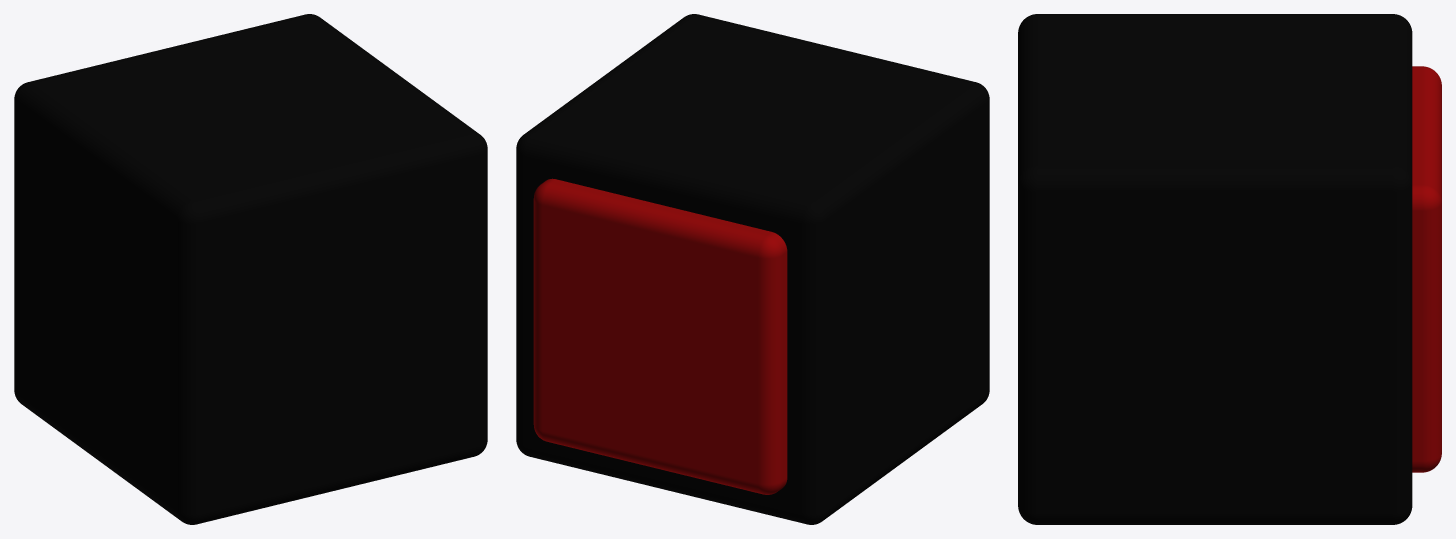
The model's file is cubinho(0, 0, -1).obj.
3 renders of one model, left to right at view 1: azimuth 30°, elevation 25°; view 2: azimuth 150°, elevation 25°; view 3: azimuth 270°, elevation 25°, orthographic. The views are drawn at different scales.
Visible parts, largest first — view 1: (0,_0,_-1); view 2: (0,_0,_-1); view 3: (0,_0,_-1).
Part boxes in pixels (<box>): (0,_0,_-1): <box>14,14,487,524</box>; (0,_0,_-1): <box>516,14,989,524</box>; (0,_0,_-1): <box>1018,14,1441,524</box>.
Size of the model in its own units: 2 by 2 by 2.15.
